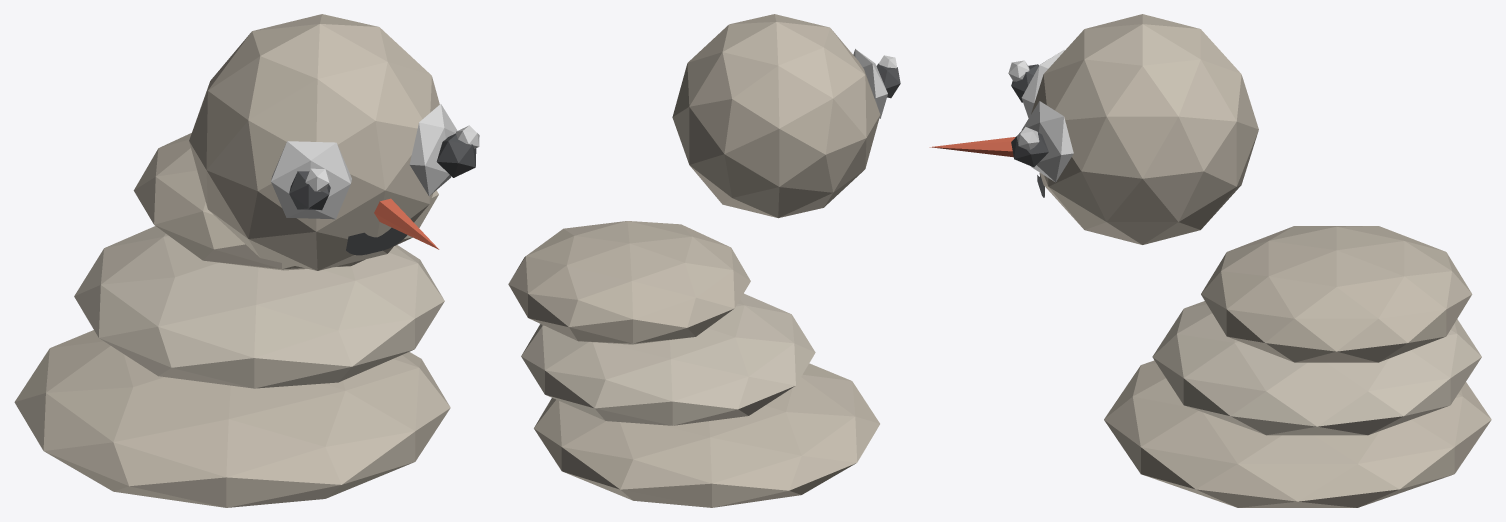
File: hemidactylus-frenatus.glb
3 renders of one model, left to right at view 1: azimuth 30°, elevation 25°; view 2: azimuth 150°, elevation 25°; view 3: azimuth 270°, elevation 25°, orthographic. The views are drawn at different scales.
Visible parts, largest first — view 1: coil0, head, coil1, coil2, face-eye-r, face-eye-l, face-pupil-l, tongue, face-smile, face-pupil-r; view 2: head, coil0, coil1, coil2, face-eye-r, face-pupil-r; view 3: head, coil2, coil0, coil1, face-eye-l, tongue, face-eye-r, face-pupil-l.
Boxes of the visible parts, <box> form: coil0: <box>14,330,450,507</box>; head: <box>189,14,439,270</box>; coil1: <box>74,226,444,388</box>; coil2: <box>133,133,438,270</box>; face-eye-r: <box>271,141,351,219</box>; face-eye-l: <box>409,104,457,196</box>; face-pupil-l: <box>436,133,476,177</box>; tongue: <box>374,198,439,249</box>; face-smile: <box>346,227,407,255</box>; face-pupil-r: <box>289,171,330,210</box>; head: <box>672,14,880,218</box>; coil0: <box>534,363,879,507</box>; coil1: <box>521,293,815,425</box>; coil2: <box>508,221,750,344</box>; face-eye-r: <box>853,49,887,118</box>; face-pupil-r: <box>876,63,900,98</box>; head: <box>1031,14,1258,244</box>; coil2: <box>1201,226,1472,362</box>; coil0: <box>1104,360,1491,507</box>; coil1: <box>1152,301,1481,435</box>; face-eye-l: <box>1021,101,1073,182</box>; tongue: <box>929,137,1015,157</box>; face-eye-r: <box>1021,50,1064,118</box>; face-pupil-l: <box>1011,126,1048,167</box>.
Size of the model in its own units: 0.42 by 0.5 by 0.58.
